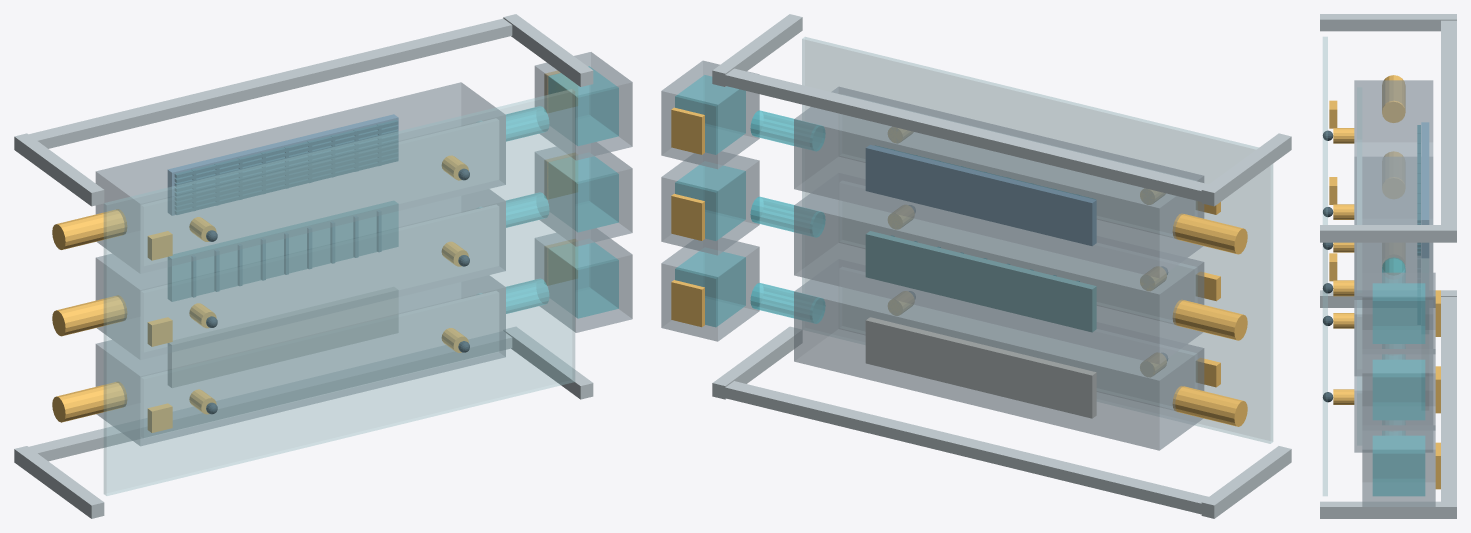
The model's file is TRI-WICK-comparator.glb.
3 views of the same model, side by side, from view 1: azimuth 30°, elevation 25°; view 2: azimuth 150°, elevation 25°; view 3: azimuth 270°, elevation 25° (orthographic). The views are drawn at different scales.
Parts seen in each view (by area): view 1: clear, housing, frame, recovery, source, rib, control, longitudinal, cross, dark; view 2: housing, clear, frame, recovery, source, control, longitudinal, cross; view 3: housing, frame, recovery, source, clear, cross, dark, rib, longitudinal.
Boxes of the visible parts, x1=… form: clear: x1=104, y1=89, x2=574, y2=495; housing: x1=95, y1=52, x2=632, y2=445; frame: x1=14, y1=14, x2=593, y2=518; recovery: x1=476, y1=66, x2=618, y2=318; source: x1=52, y1=71, x2=577, y2=432; rib: x1=174, y1=120, x2=398, y2=297; control: x1=168, y1=287, x2=398, y2=387; longitudinal: x1=168, y1=201, x2=398, y2=301; cross: x1=167, y1=114, x2=398, y2=215; dark: x1=206, y1=168, x2=469, y2=414; housing: x1=661, y1=60, x2=1204, y2=450; clear: x1=802, y1=37, x2=1272, y2=443; frame: x1=712, y1=14, x2=1291, y2=518; recovery: x1=675, y1=75, x2=825, y2=326; source: x1=671, y1=107, x2=1247, y2=426; control: x1=865, y1=317, x2=1096, y2=418; longitudinal: x1=865, y1=231, x2=1096, y2=332; cross: x1=865, y1=145, x2=1096, y2=245; housing: x1=1354, y1=80, x2=1435, y2=506; frame: x1=1320, y1=14, x2=1456, y2=518; recovery: x1=1373, y1=257, x2=1424, y2=495; source: x1=1329, y1=75, x2=1440, y2=489; clear: x1=1323, y1=37, x2=1361, y2=495; cross: x1=1421, y1=122, x2=1429, y2=258; dark: x1=1322, y1=130, x2=1333, y2=402; rib: x1=1417, y1=125, x2=1420, y2=272; longitudinal: x1=1422, y1=259, x2=1428, y2=333.
Size of the model in its own units: 220 by 121 by 52.
